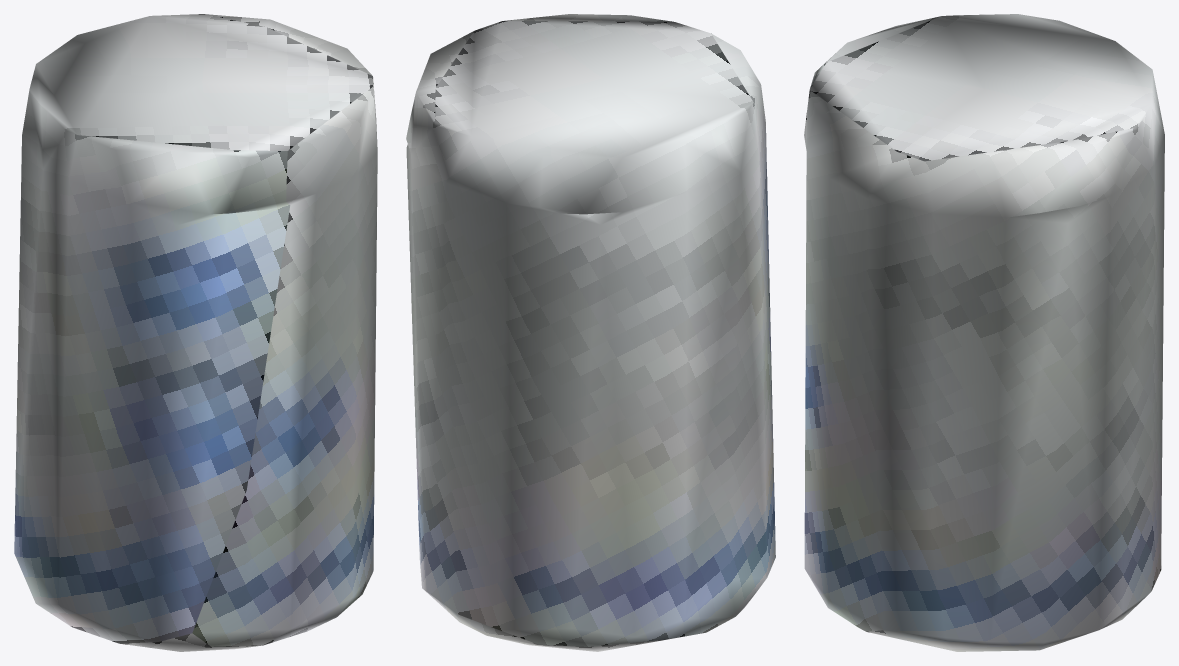
The model's file is Xyli_Pure_Xylitol-low.glb.
3 views of the same model, side by side, from view 1: azimuth 30°, elevation 25°; view 2: azimuth 150°, elevation 25°; view 3: azimuth 270°, elevation 25° (orthographic).
Visible parts, largest first — view 1: Xyli_Pure_Xylitol; view 2: Xyli_Pure_Xylitol; view 3: Xyli_Pure_Xylitol.
Boxes of the visible parts, x1,y1,x2,y2 form: Xyli_Pure_Xylitol: (14, 14, 377, 651); Xyli_Pure_Xylitol: (406, 14, 775, 651); Xyli_Pure_Xylitol: (804, 14, 1164, 651).
Bounding box in the file's own units: 0.0957 × 0.1467 × 0.0943.
Materials: 1 (1 with a texture image).
